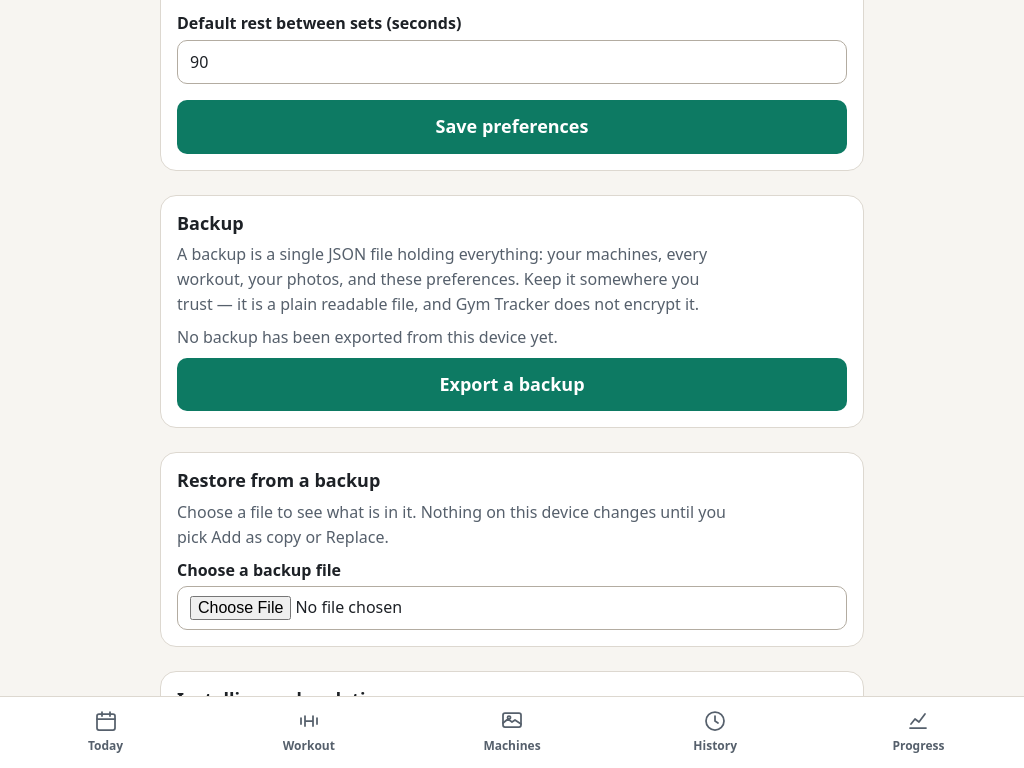
exporting a backup › hands a readable file to the browser and records that it did
(page scrolled)
Expected: the text "No backup has been exported from this device yet." is shown, [177,326,558,348]
Click the button "Export a backup" at (512, 384), box [177,358,847,411]
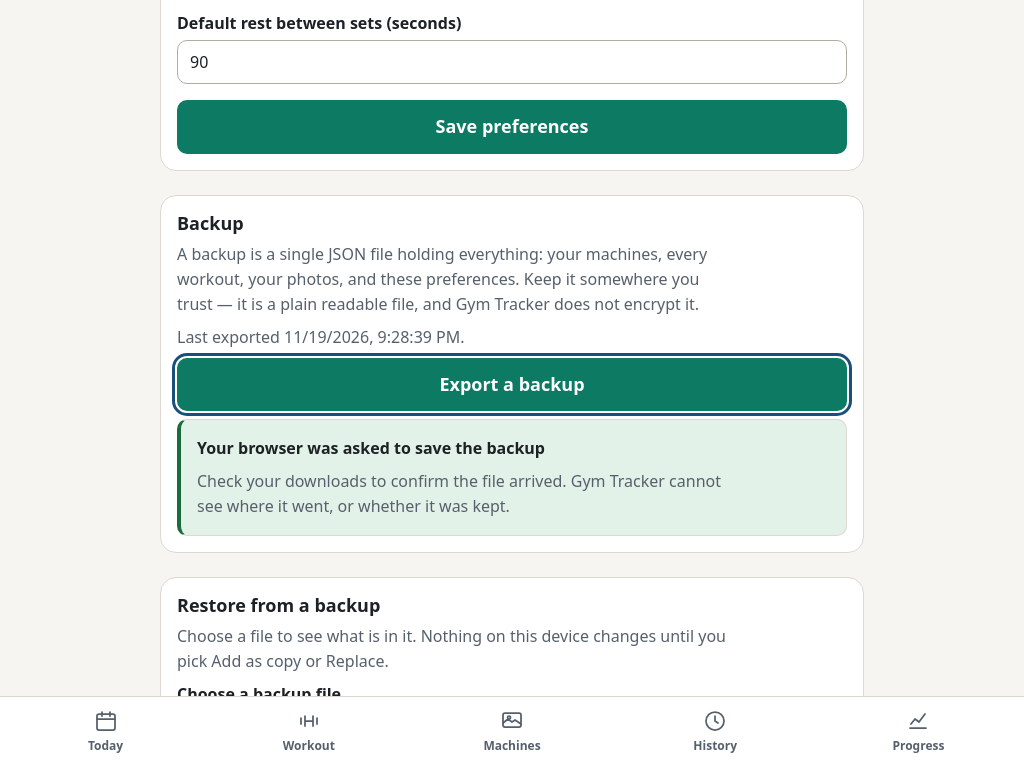
Expected: the text "Your browser was asked to save the backup" is shown, [197,437,545,459]
